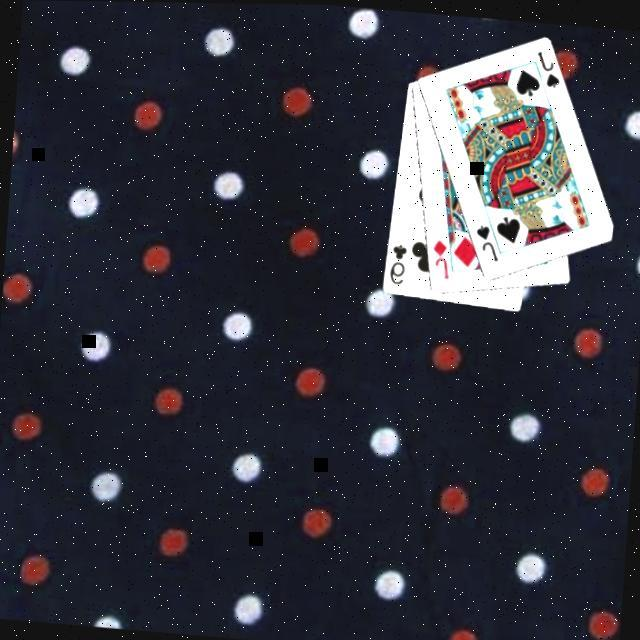6C: (385, 241, 410, 288)
JD: (428, 236, 454, 282)
JS: (471, 220, 504, 264), (532, 48, 564, 92)
